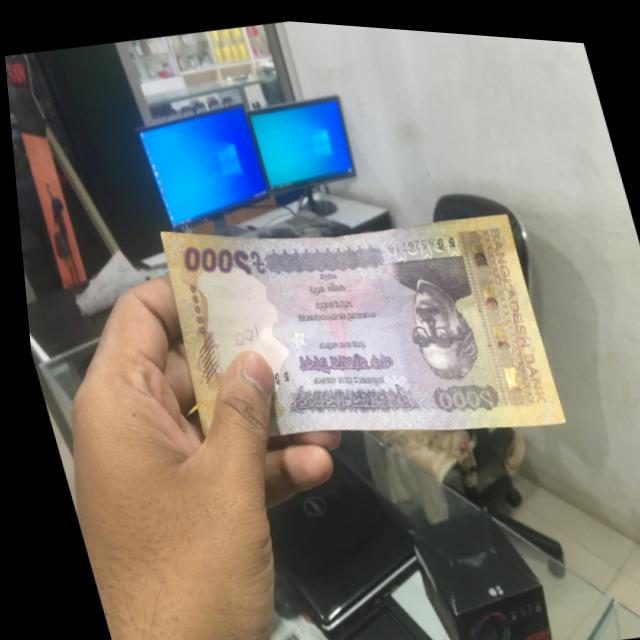Taka: (138, 148, 579, 485)
